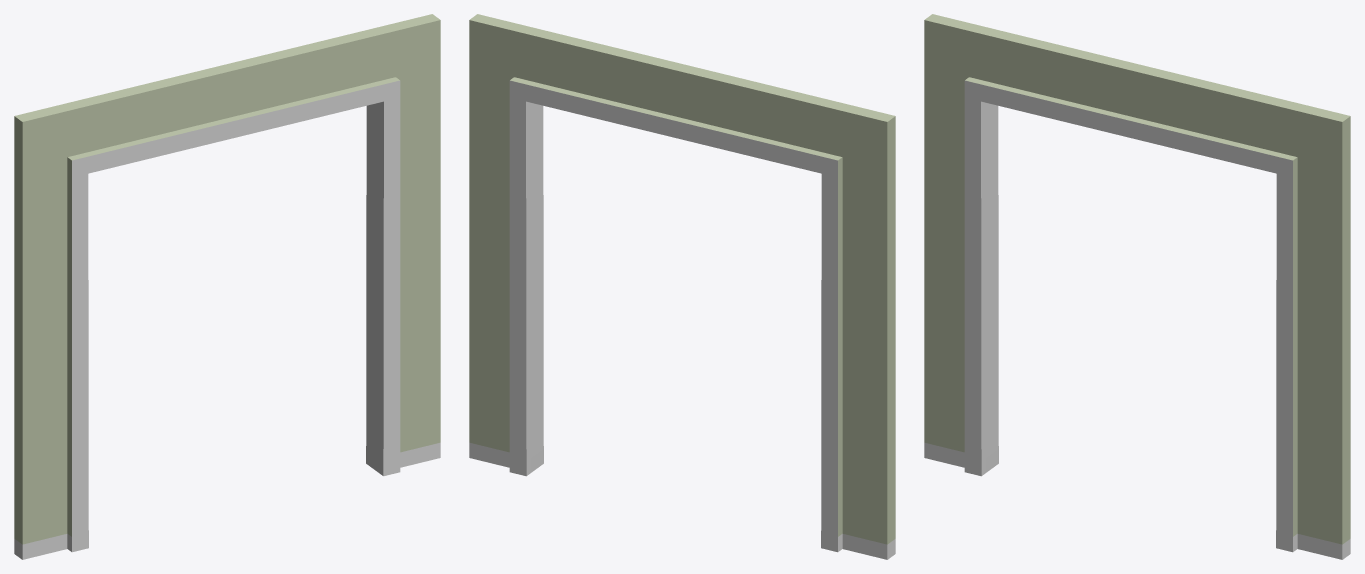
File: MODdoubleDoor.fbx
3 renders of one model, left to right at view 1: azimuth 30°, elevation 25°; view 2: azimuth 150°, elevation 25°; view 3: azimuth 330°, elevation 25°, orthographic.
Parts seen in each view (by area): view 1: Cube; view 2: Cube; view 3: Cube.
Part boxes in pixels (x1,y1,x2,y2): Cube: [14, 14, 440, 559]; Cube: [469, 14, 895, 559]; Cube: [924, 14, 1350, 559].
Bounding box in the file's own units: 400 × 400 × 28.68.
